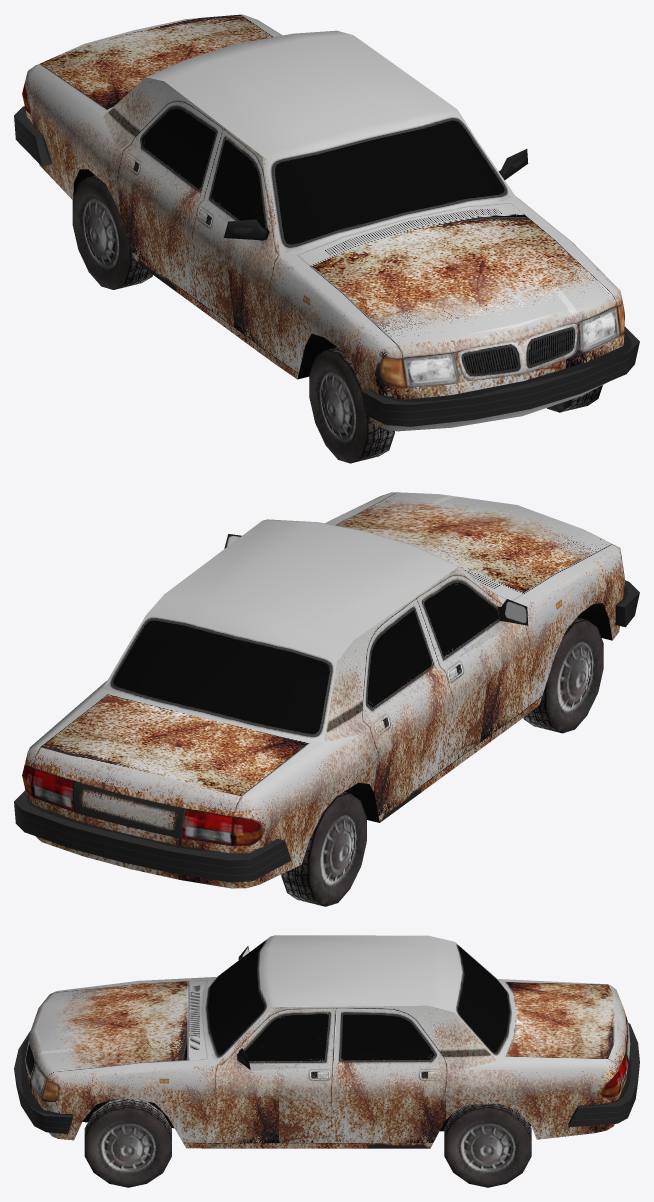
The model's file is 18_gaz_volga_rust.glb.
3 renders of one model, top to bottom at view 1: azimuth 30°, elevation 25°; view 2: azimuth 150°, elevation 25°; view 3: azimuth 270°, elevation 25°, orthographic. The views are drawn at different scales.
Parts seen in each view (by area): view 1: volga_rust_120, volga_wheel.001_117, volga_wheel.003_119; view 2: volga_rust_120, volga_wheel.003_119, volga_wheel.001_117; view 3: volga_rust_120, volga_wheel_116, volga_wheel.002_118.
Boxes of the visible parts, box(x1,y1,x2,y2) form: volga_rust_120: box(14, 14, 639, 431); volga_wheel.001_117: box(309, 347, 394, 463); volga_wheel.003_119: box(72, 175, 152, 289); volga_rust_120: box(14, 492, 639, 888); volga_wheel.003_119: box(281, 792, 366, 906); volga_wheel.001_117: box(523, 617, 603, 733); volga_rust_120: box(14, 935, 639, 1148); volga_wheel_116: box(84, 1099, 171, 1187); volga_wheel.002_118: box(444, 1104, 531, 1187).
Bounding box in the file's own units: 2.01 × 1.49 × 4.71.
2 materials, 2 textured.
